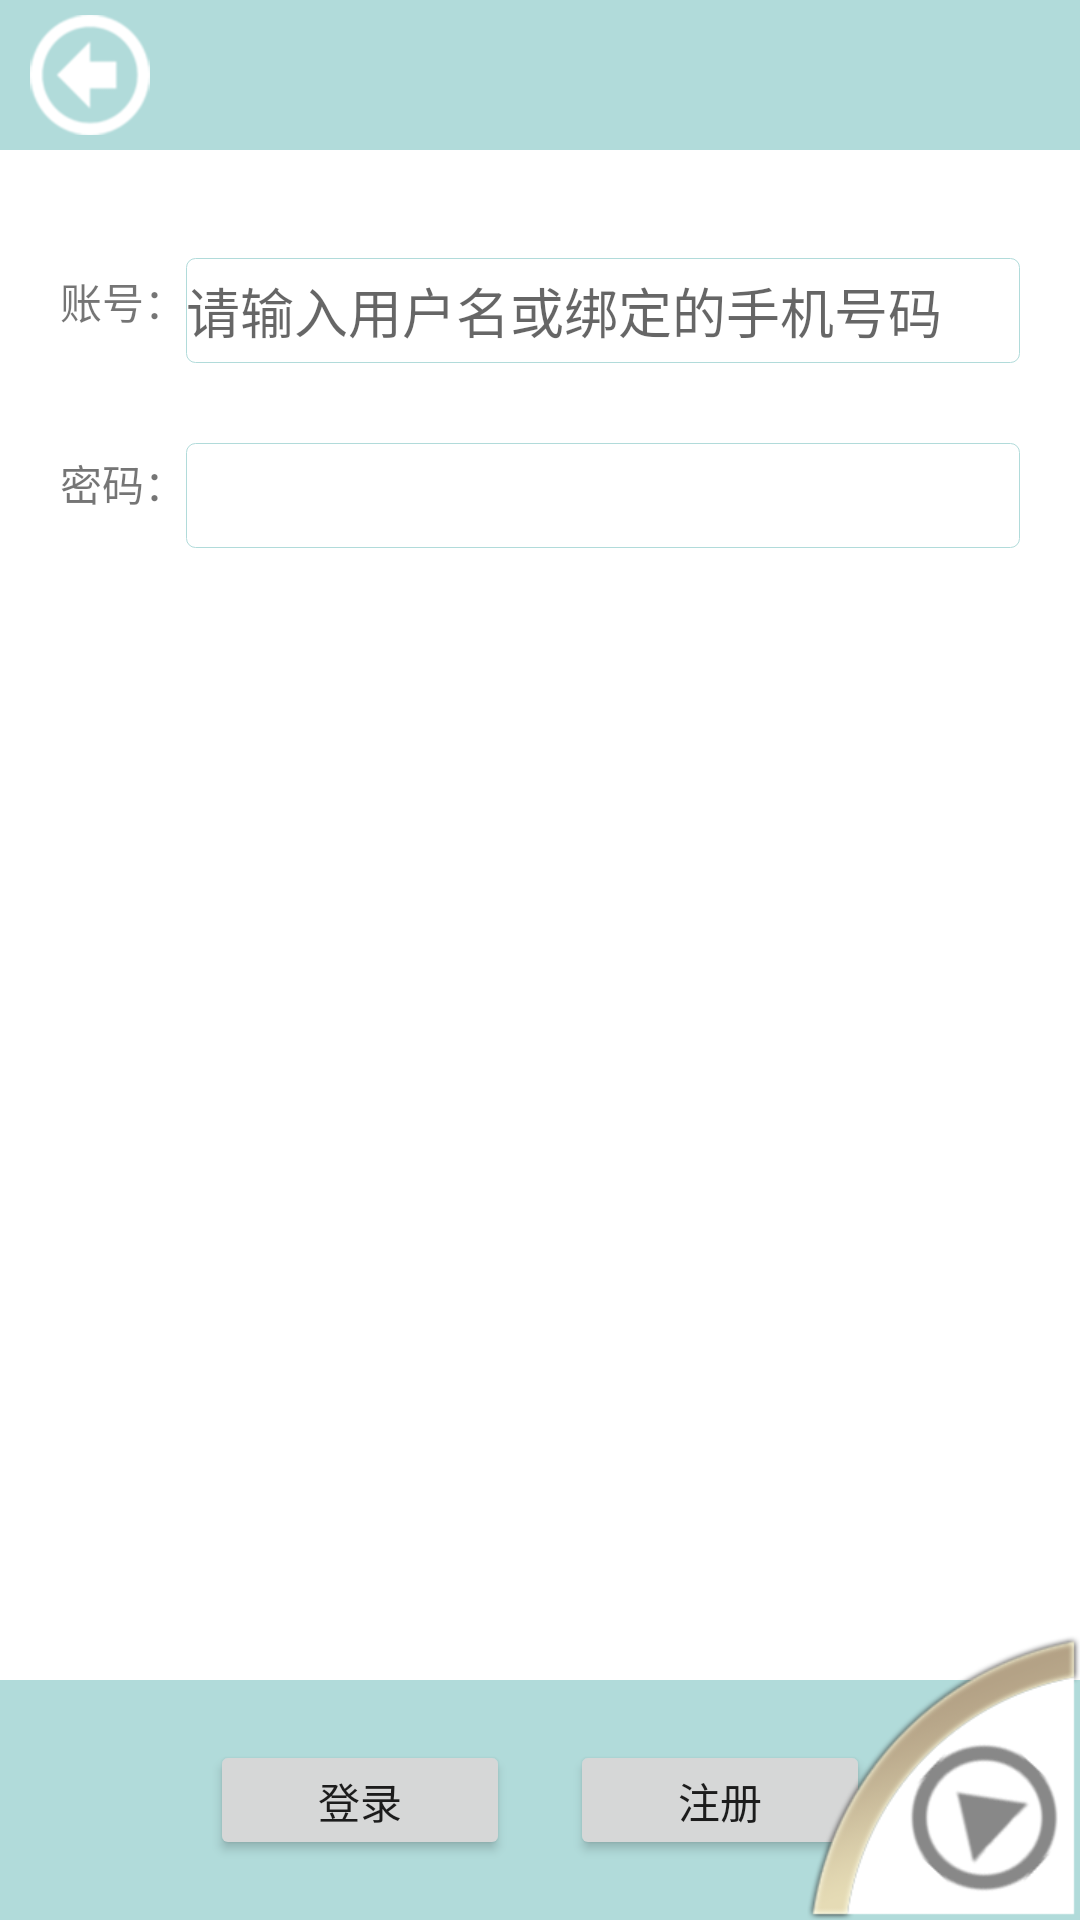

Icon click points for this 1080 × 1920 phone screenshot, format [x,y]:
back: [90,75]
